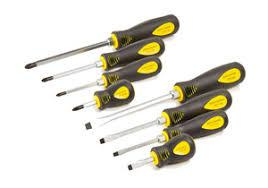screwdriver: (83, 60, 245, 130), (24, 12, 179, 69), (98, 88, 231, 143), (40, 36, 164, 82), (112, 109, 228, 156), (55, 55, 161, 96), (127, 133, 196, 170), (70, 79, 135, 111)
